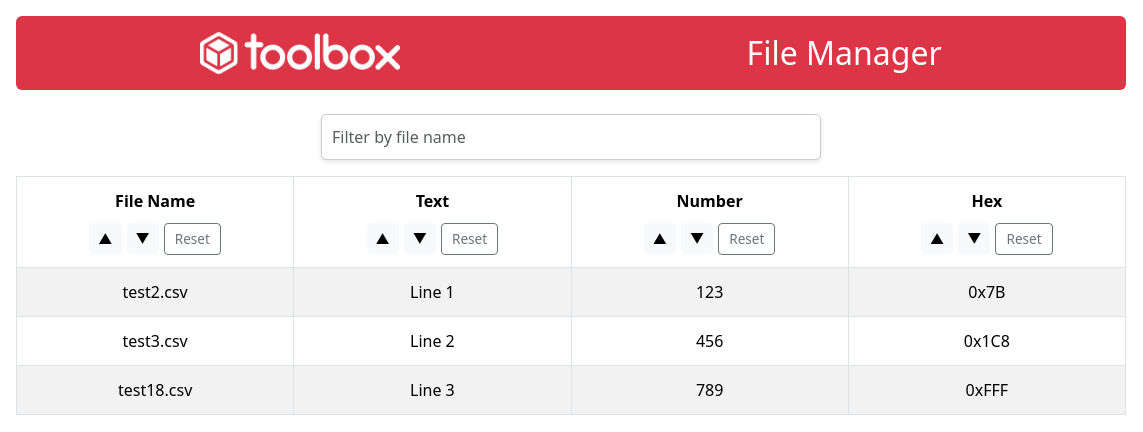
Test: App component › filters files based on user input
Expected: the text "test2.csv" is shown, [16,268,294,317]
Simulate user typing into the filter input
Type "test3" into the field with placeholder "Filter by file name" at (571, 137), box [321,114,821,160]
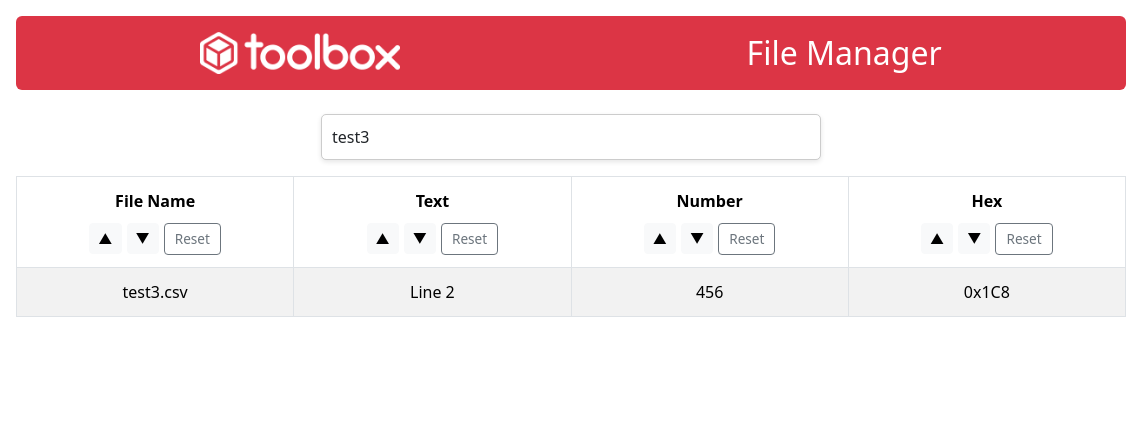
Expected: the text "test2.csv" is gone
Expected: the text "test3.csv" is shown, [16,268,294,317]
Expected: the text "Line 2" is shown, [294,268,571,317]
